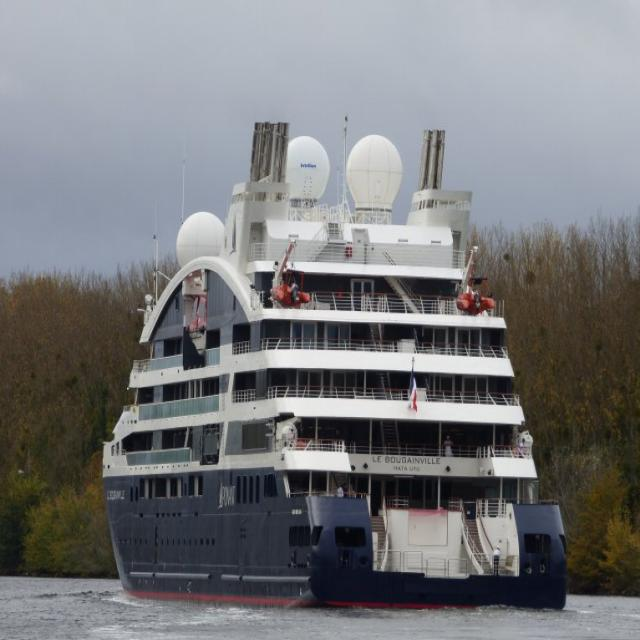cruises: (97, 116, 571, 620)
